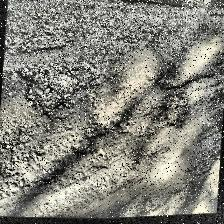pothole: (14, 58, 86, 125), (162, 97, 190, 131)
